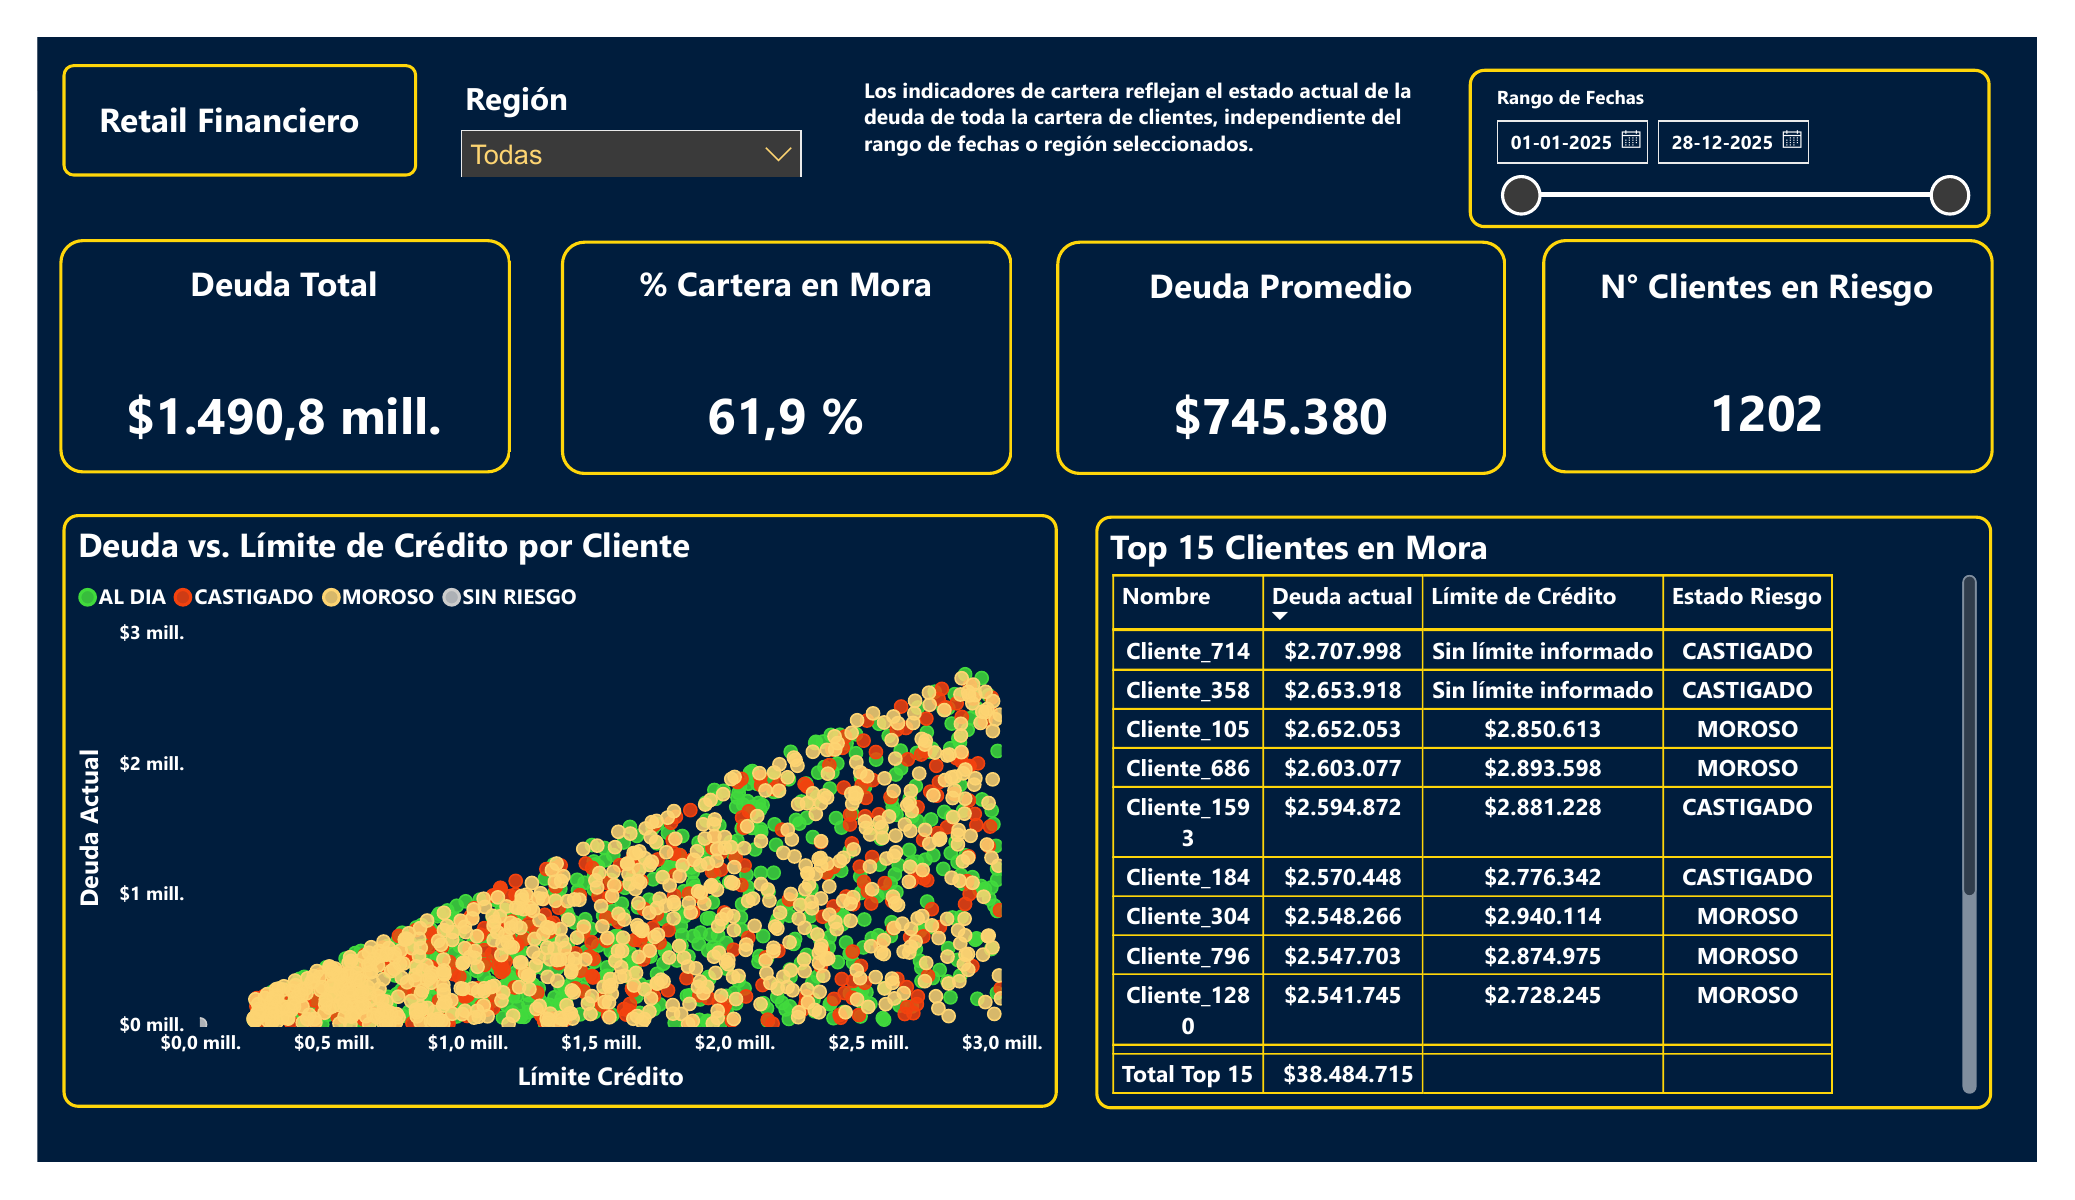

What the dashboard file says about the page in this screenshot:
{"tool":"powerbi","page":{"name":"Cartera y Riesgo","canvas":[1280,720],"ordinal":2},"visuals":[{"type":"slicer","fields":{"Values":["retail_financiero locales.region"]},"box":[261.4,20.3,237.9,68.9],"z":0},{"type":"shape","box":[962.6,128.9,289,149.8],"z":0,"group":"g4"},{"type":"shape","box":[15.7,17.2,227,72],"z":1000},{"type":"textbox","box":[28.2,32.9,189.4,43.8],"z":2000},{"type":"group","id":"g1","title":"Grupo 1","box":[13.9,128.9,288.9,150],"z":3000},{"type":"group","id":"g2","title":"Grupo 2","box":[334.6,130,288.9,150],"z":4000},{"type":"shape","box":[652.1,129.6,288.1,149.8],"z":4500,"group":"g3"},{"type":"group","id":"g3","title":"Grupo 3","box":[652.1,129.6,288.1,149.8],"z":5000},{"type":"shape","box":[13.9,128.9,288.9,150],"z":5500,"group":"g1"},{"type":"group","id":"g4","title":"Grupo 4","box":[962.6,128.9,288.9,148.9],"z":6000},{"type":"slicer","fields":{"Values":["Calendario.Date"]},"box":[915.8,20.2,334.5,101.9],"z":7000},{"type":"cardVisual","fields":{"Data":["_Medidas.Cliente Promedio Deuda"]},"box":[677.1,199.7,238.1,79.7],"z":8000},{"type":"cardVisual","fields":{"Data":["Sum(retail_financiero vw_clientes_credito_limpios.deuda_actual)"]},"box":[26.3,200.1,264.1,78.7],"z":9000},{"type":"shape","box":[334.6,130,288.9,150],"z":9500,"group":"g2"},{"type":"cardVisual","fields":{"Data":["_Medidas.% Cartera en Mora"]},"box":[387.4,199.3,183.4,80.7],"z":10000},{"type":"cardVisual","fields":{"Data":["_Medidas.N° Clientes en Riesgo"]},"box":[1010.1,197.1,194,80.7],"z":11000},{"type":"textbox","box":[52.2,138.3,212.2,51.9],"z":12000},{"type":"textbox","box":[330.3,138.3,297.7,51.9],"z":13000},{"type":"textbox","box":[652.2,138.9,287.8,51.1],"z":14000},{"type":"textbox","box":[990.2,138.7,233.8,51.6],"z":15000},{"type":"scatterChart","title":"Deuda vs. Límite de Crédito por Cliente","fields":{"X":["Sum(retail_financiero vw_clientes_credito_limpios.limite_credito)"],"Y":["Sum(retail_financiero vw_clientes_credito_limpios.deuda_actual)"],"Series":["retail_financiero vw_clientes_credito_limpios.estado_riesgo"],"Category":["retail_financiero vw_clientes_credito_limpios.id_cliente"]},"box":[16,304.8,637.1,380.4],"z":16000},{"type":"tableEx","title":"   Top 15 Clientes en Mora","fields":{"Values":["retail_financiero vw_clientes_credito_limpios.nombre_completo","Sum(retail_financiero vw_clientes_credito_limpios.deuda_actual)","_Medidas.Límite de crédito (informado)","retail_financiero vw_clientes_credito_limpios.estado_riesgo"]},"box":[676.7,305.6,574.4,380],"z":17000},{"type":"textbox","box":[524.2,20.2,367.9,101],"z":18000}]}

Visuals, with their boxes on the page's 1280x720 design canvas (x1, y1, x2, y2). These are canvas units, not pixel positions in the 2075x1200 screenshot, which may show the page scaled, cropped or inside an application window:
slicer - retail_financiero locales.region: bbox(261, 20, 499, 89)
shape: bbox(963, 129, 1252, 279)
shape: bbox(16, 17, 243, 89)
textbox: bbox(28, 33, 218, 77)
"Grupo 1" group: bbox(14, 129, 303, 279)
"Grupo 2" group: bbox(335, 130, 624, 280)
shape: bbox(652, 130, 940, 279)
"Grupo 3" group: bbox(652, 130, 940, 279)
shape: bbox(14, 129, 303, 279)
"Grupo 4" group: bbox(963, 129, 1252, 278)
slicer - Calendario.Date: bbox(916, 20, 1250, 122)
cardVisual - _Medidas.Cliente Promedio Deuda: bbox(677, 200, 915, 279)
cardVisual - Sum(retail_financiero vw_clientes_credito_limpios.deuda_actual): bbox(26, 200, 290, 279)
shape: bbox(335, 130, 624, 280)
cardVisual - _Medidas.% Cartera en Mora: bbox(387, 199, 571, 280)
cardVisual - _Medidas.N° Clientes en Riesgo: bbox(1010, 197, 1204, 278)
textbox: bbox(52, 138, 264, 190)
textbox: bbox(330, 138, 628, 190)
textbox: bbox(652, 139, 940, 190)
textbox: bbox(990, 139, 1224, 190)
"Deuda vs. Límite de Crédito por Cliente" scatterChart: bbox(16, 305, 653, 685)
"   Top 15 Clientes en Mora" tableEx: bbox(677, 306, 1251, 686)
textbox: bbox(524, 20, 892, 121)
